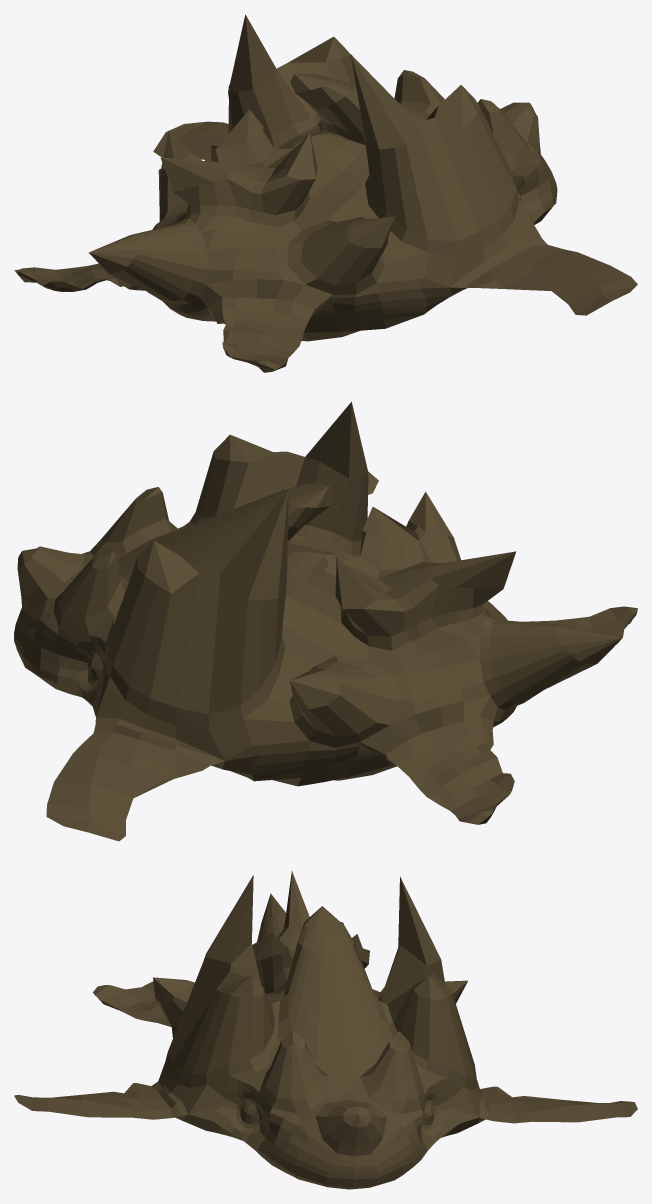
The model's file is Rock Fish no gem cover.fbx.
3 renders of one model, top to bottom at view 1: azimuth 30°, elevation 25°; view 2: azimuth 150°, elevation 25°; view 3: azimuth 270°, elevation 25°, orthographic. The views are drawn at different scales.
Parts seen in each view (by area): view 1: Fish1; view 2: Fish1; view 3: Fish1.
Boxes of the visible parts, x1,y1,x2,y2 form: Fish1: [14, 14, 637, 372]; Fish1: [14, 402, 637, 841]; Fish1: [14, 871, 637, 1189].
Size of the model in its own units: 2.22 by 1.19 by 2.67.
